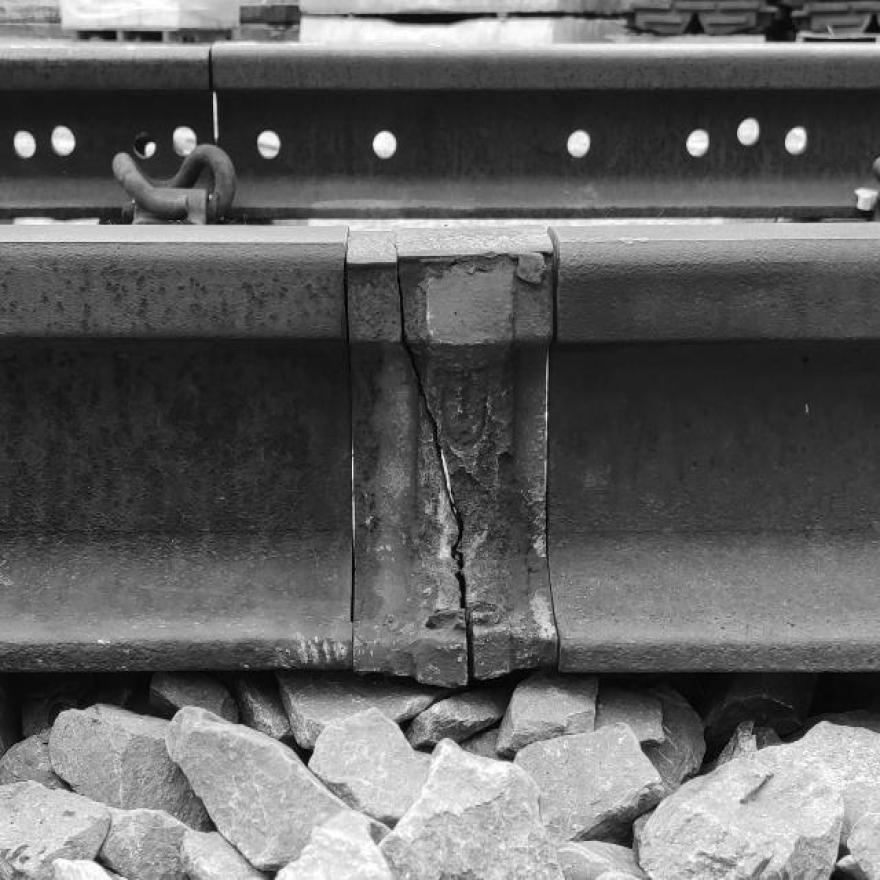railway-gap: (292, 200, 610, 700), (166, 35, 269, 148)
